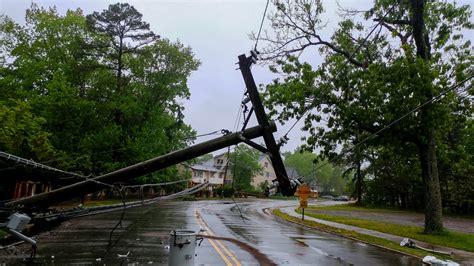pole: (7, 18, 333, 252)
